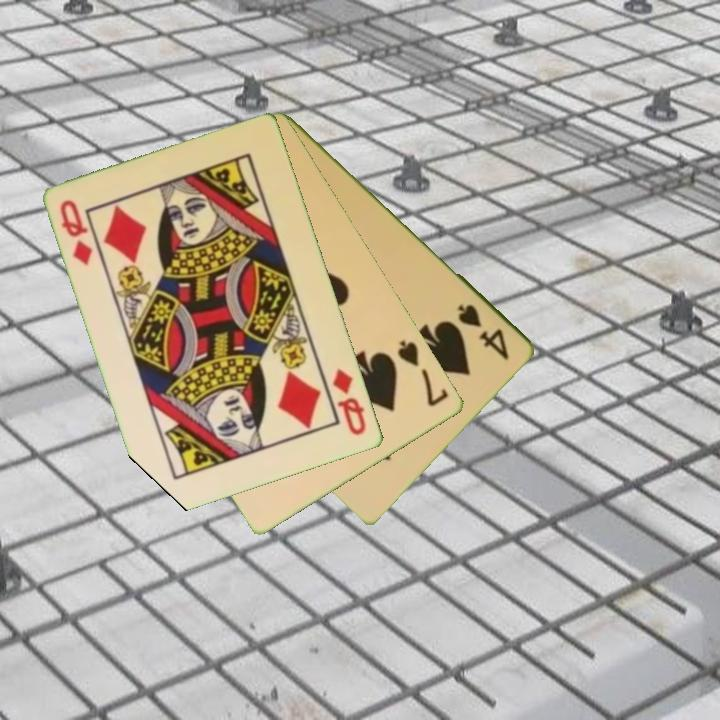4s: (454, 300, 513, 363)
7s: (394, 336, 452, 410)
Qd: (329, 365, 370, 439), (57, 196, 96, 269)
